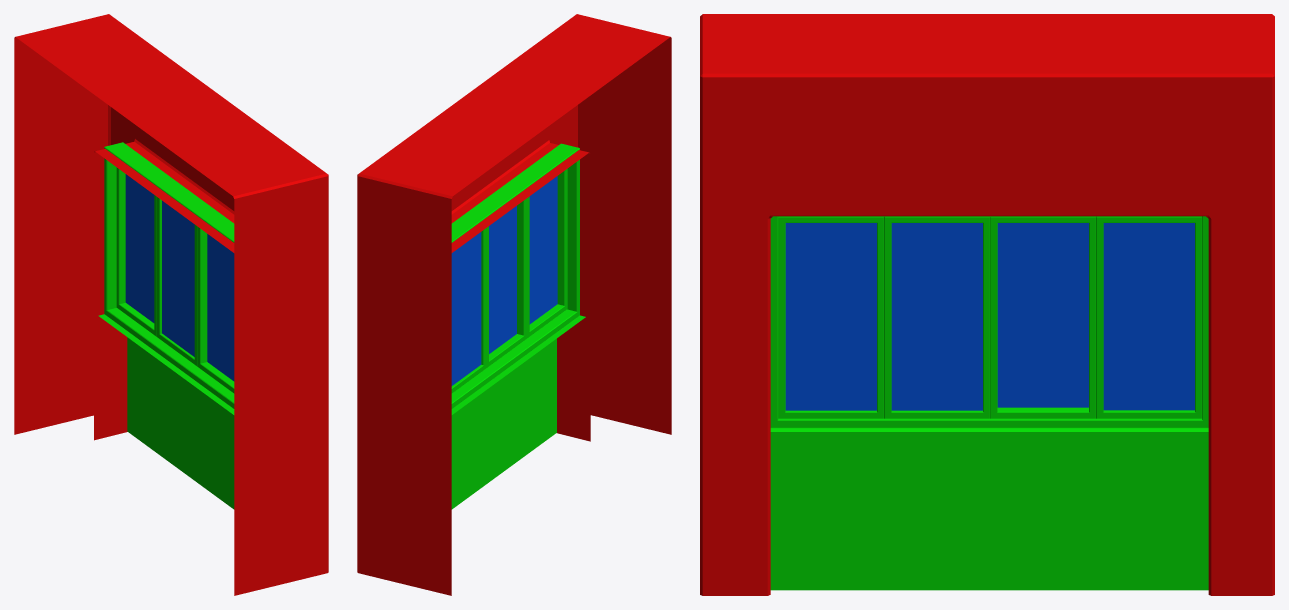
Rendered from shop_E.fbx.
3 renders of one model, left to right at view 1: azimuth 30°, elevation 25°; view 2: azimuth 150°, elevation 25°; view 3: azimuth 270°, elevation 25°, orthographic. The views are drawn at different scales.
Visible parts, largest first — view 1: polySurface204; view 2: polySurface204; view 3: polySurface204.
Part boxes in pixels (box(x1,y1,x2,y2)): polySurface204: box(14, 14, 328, 595); polySurface204: box(357, 14, 671, 595); polySurface204: box(700, 14, 1274, 595).
Bounding box in the file's own units: 75.25 × 300 × 300.
